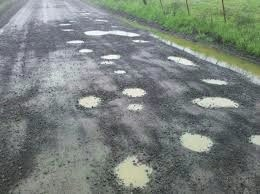pothole: (103, 151, 154, 190), (205, 45, 250, 70), (176, 128, 210, 151), (155, 38, 208, 52), (195, 96, 234, 110), (74, 94, 101, 109), (82, 27, 138, 34), (119, 86, 150, 96), (164, 53, 195, 63), (201, 75, 227, 84), (245, 130, 259, 144), (93, 58, 116, 65), (99, 52, 119, 58), (132, 38, 150, 44), (128, 101, 142, 108), (78, 48, 92, 54), (63, 39, 84, 43), (59, 27, 73, 31), (57, 21, 70, 25), (95, 17, 108, 21), (112, 69, 123, 73)
